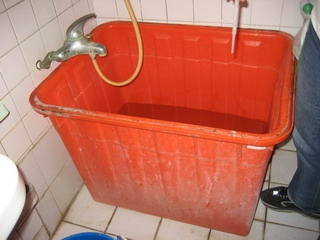box: (27, 19, 298, 237)
